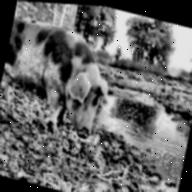boar: (0, 13, 118, 146)
